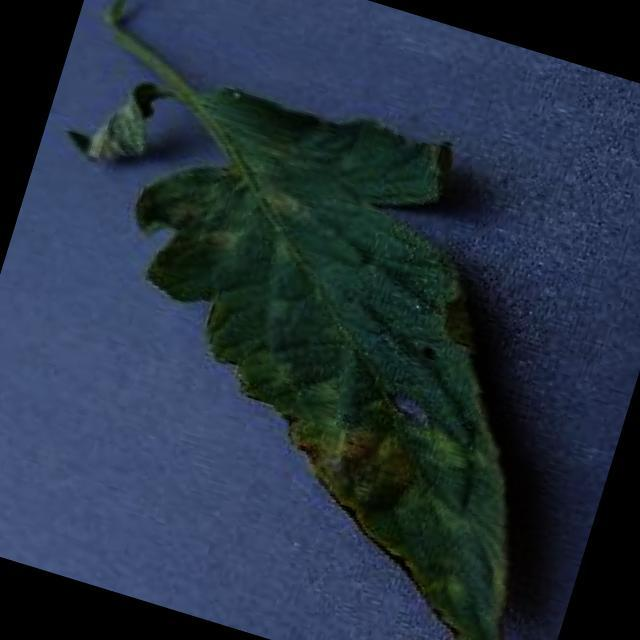Tomato mold leaf: (27, 54, 640, 640)
